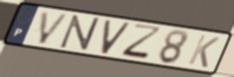8: (157, 28, 190, 67)
K: (186, 33, 222, 70)
N: (58, 14, 102, 52)
V: (36, 9, 72, 46), (99, 18, 134, 56)
Z: (118, 22, 165, 62)
